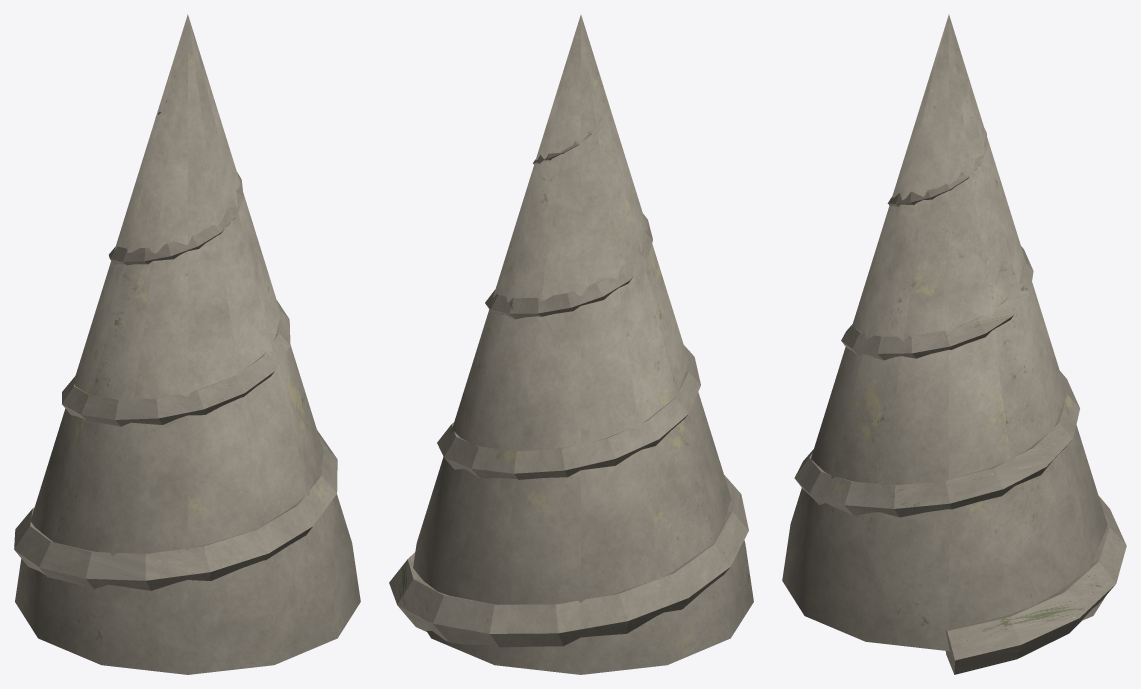
File: HO_VFX_StoneDrill.fbx
3 renders of one model, left to right at view 1: azimuth 30°, elevation 25°; view 2: azimuth 150°, elevation 25°; view 3: azimuth 270°, elevation 25°, orthographic. The views are drawn at different scales.
Visible parts, largest first — view 1: HO_VFX_StoneDrill; view 2: HO_VFX_StoneDrill; view 3: HO_VFX_StoneDrill.
Boxes of the visible parts, x1,y1,x2,y2 form: HO_VFX_StoneDrill: (14,14,360,674); HO_VFX_StoneDrill: (389,15,753,674); HO_VFX_StoneDrill: (782,14,1126,674).
Size of the model in its own units: 3.41 by 6.24 by 3.31.
